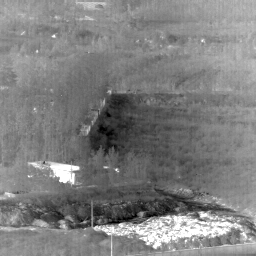aircraft: (88, 52, 90, 54)
